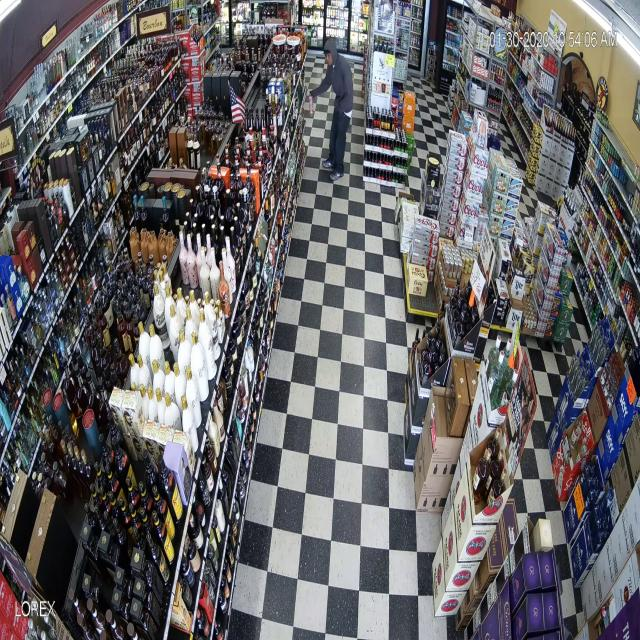Product: (307, 95, 317, 123)
shoplifting: (296, 37, 364, 200)
